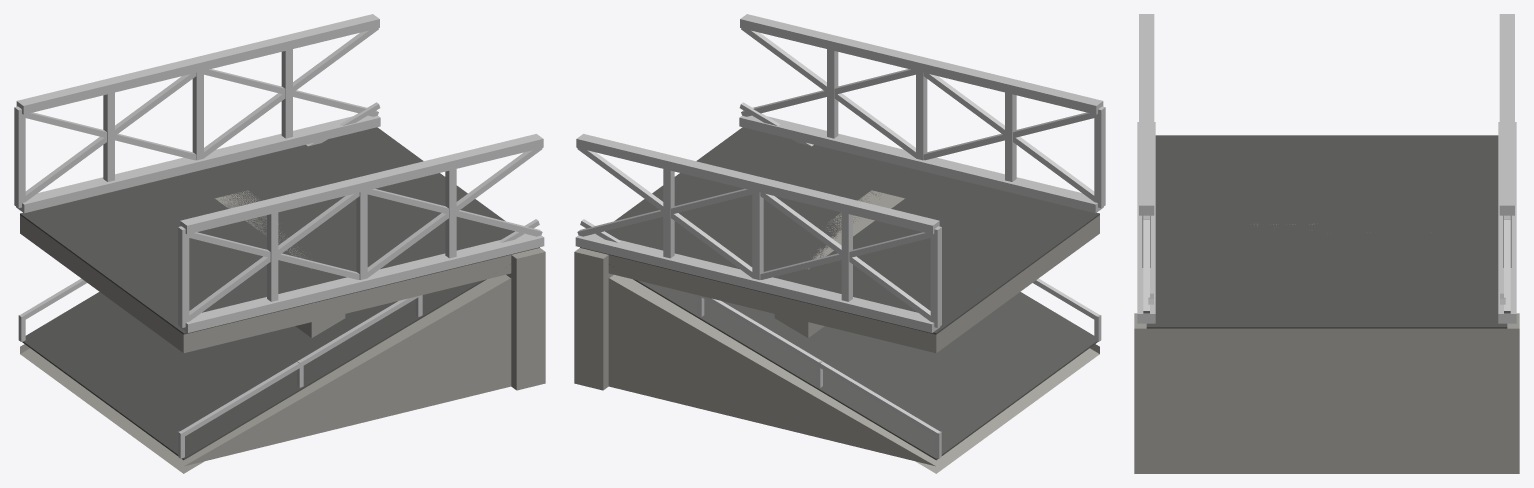
The model's file is most_tramovy.glb.
The picture shows the model from 3 angles, left to right: view 1: azimuth 30°, elevation 25°; view 2: azimuth 150°, elevation 25°; view 3: azimuth 270°, elevation 25°; orthographic projection. The views are drawn at different scales.
Parts seen in each view (by area): view 1: stred, hlava, pilir; view 2: stred, hlava, pilir; view 3: stred, hlava.
Part boxes in pixels (<box>): stred: <box>14,14,544,353</box>; hlava: <box>18,102,545,473</box>; pilir: <box>215,190,345,337</box>; stred: <box>575,14,1105,353</box>; hlava: <box>574,102,1101,473</box>; pilir: <box>774,190,904,337</box>; stred: <box>1137,14,1516,349</box>; hlava: <box>1134,293,1519,473</box>.
Size of the model in its own units: 15.03 by 9.98 by 12.6.
Materials: 1 (1 with a texture image).
